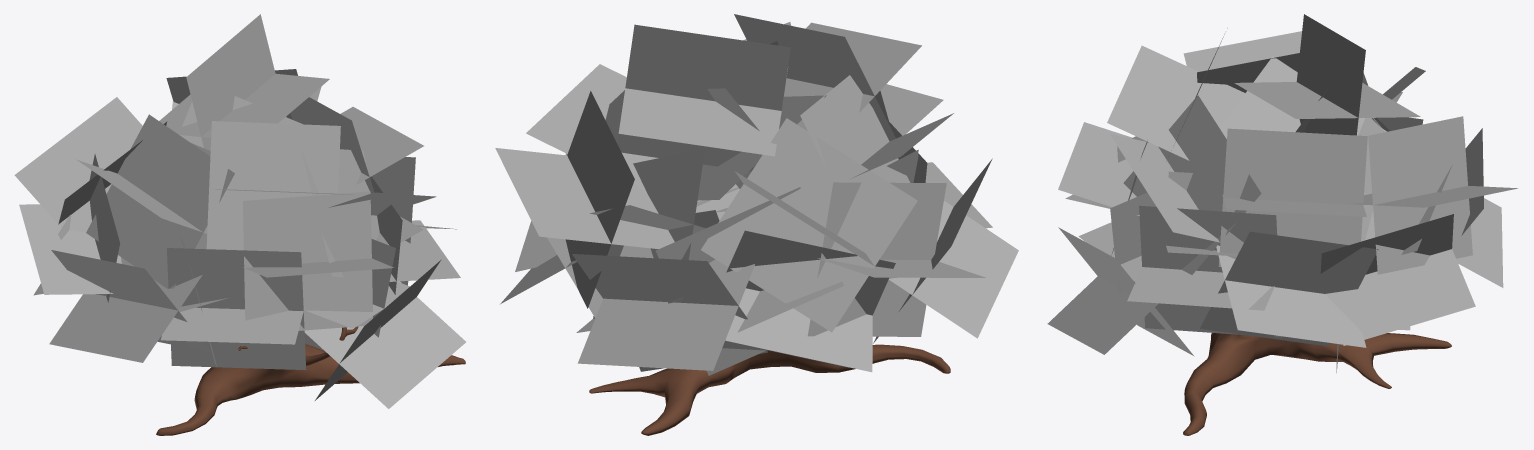
File: Bush1.fbx
3 renders of one model, left to right at view 1: azimuth 30°, elevation 25°; view 2: azimuth 150°, elevation 25°; view 3: azimuth 270°, elevation 25°, orthographic. The views are drawn at different scales.
Visible parts, largest first — view 1: pPlane66, Trunk1; view 2: pPlane66, Trunk1; view 3: pPlane66, Trunk1.
Part boxes in pixels (bbox=[...]): pPlane66: bbox=[14, 14, 465, 408]; Trunk1: bbox=[156, 326, 465, 435]; pPlane66: bbox=[495, 14, 1018, 375]; Trunk1: bbox=[589, 344, 950, 435]; pPlane66: bbox=[1047, 14, 1518, 372]; Trunk1: bbox=[1183, 333, 1451, 435].
Size of the model in its own units: 59.47 by 45.41 by 59.21.
